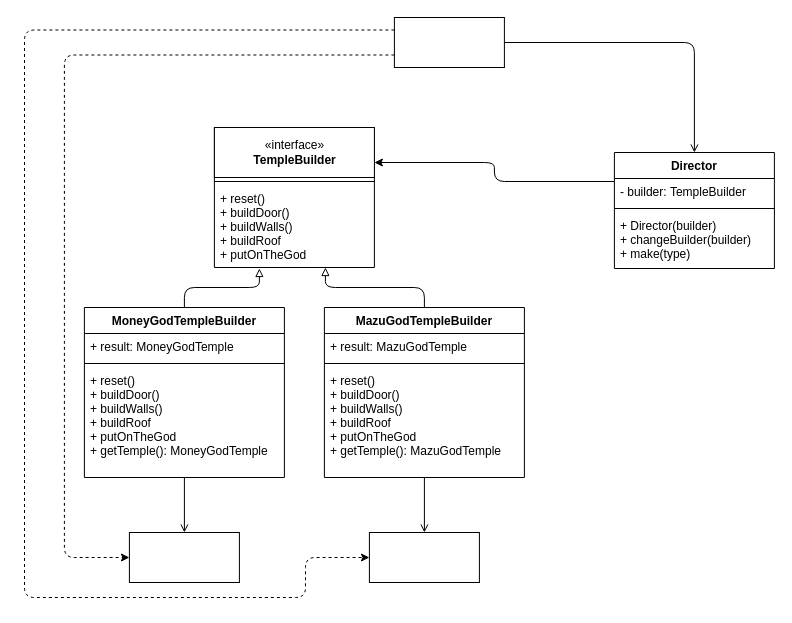
Some shapes in this 792 by 623 pixel diagram are drawn without their labels. Each missing label, with the centre of its shape:
"Cilent" belongs at (448,42).
"MazuGodTemple" belongs at (423,557).
"MoneyGodTemple" belongs at (183,557).
